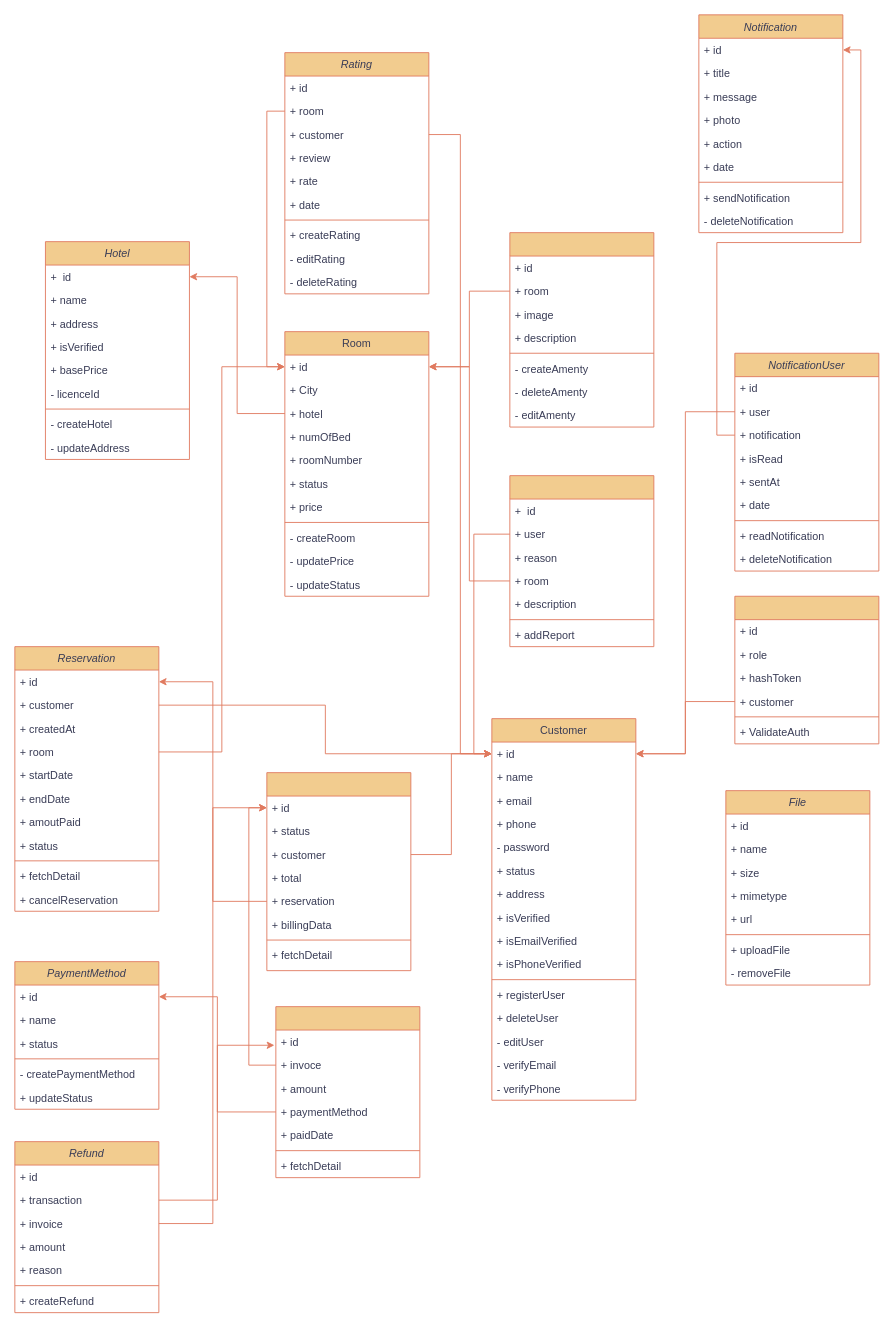
The diagram is 894 pixels wide and 1328 high, and some of its shapes have lost their labels. Each missing label, with the box of its shape:
Amenity: (509, 232, 654, 427)
Invoice: (266, 772, 411, 971)
Reports: (509, 475, 654, 647)
Transaction: (275, 1006, 420, 1178)
UserAuth: (734, 595, 879, 744)
